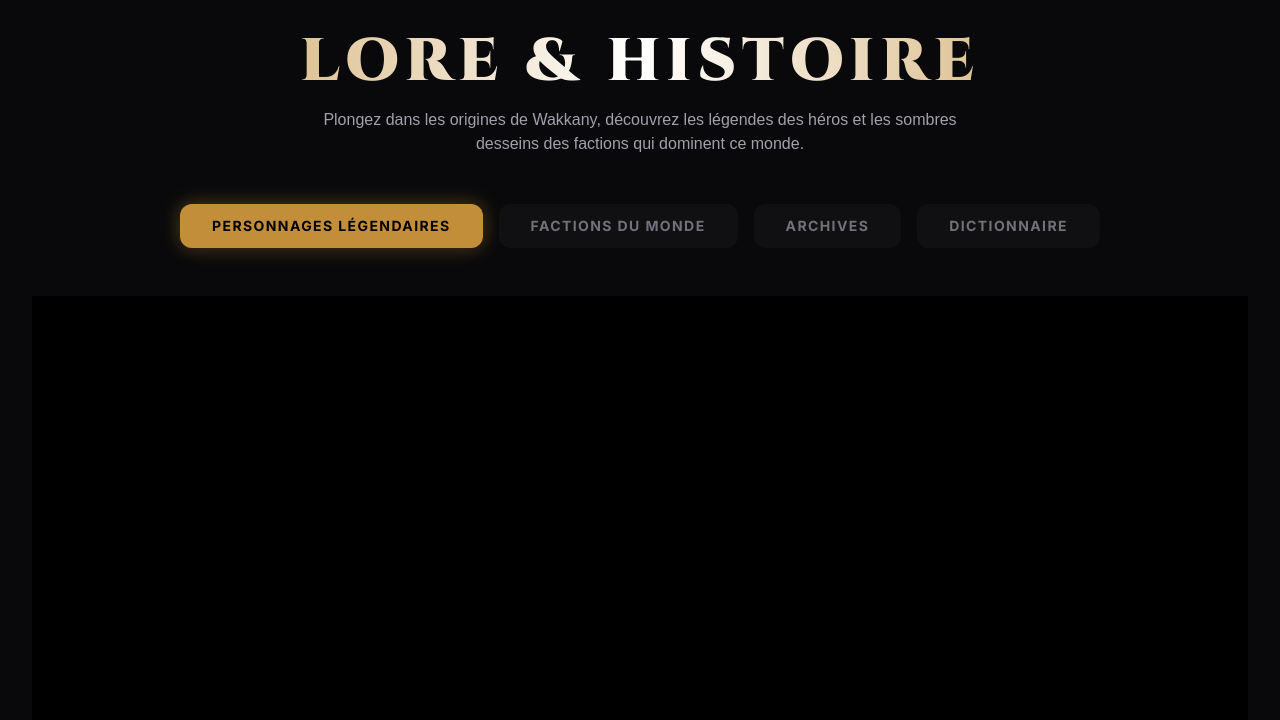
App Test Suite › shows the Histoire dictionary tab and core Akméda term
The image size is (1280, 720).
Click the button "Dictionnaire": x=1009, y=226 [917,204,1100,248]
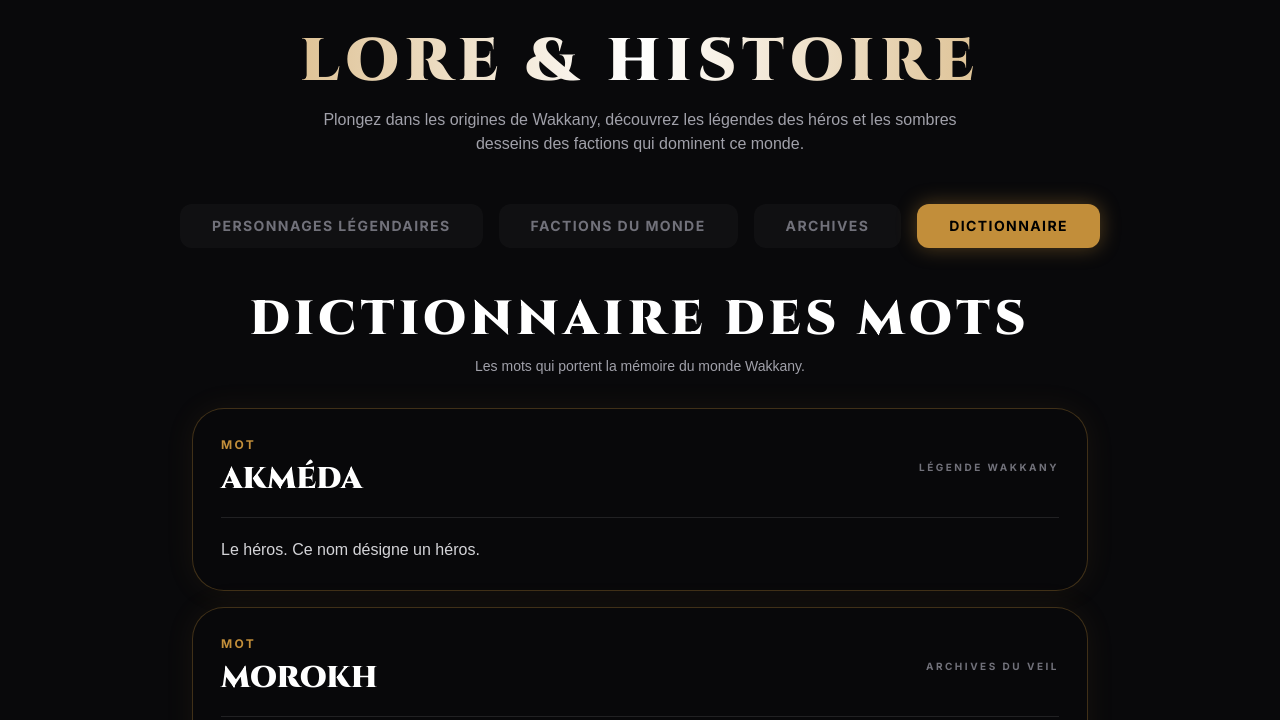
Check: the heading "Akméda" is shown, box [221,461,362,497]
Check: the text "Le héros. Ce nom désigne un héros." is shown, box [221,541,480,558]
